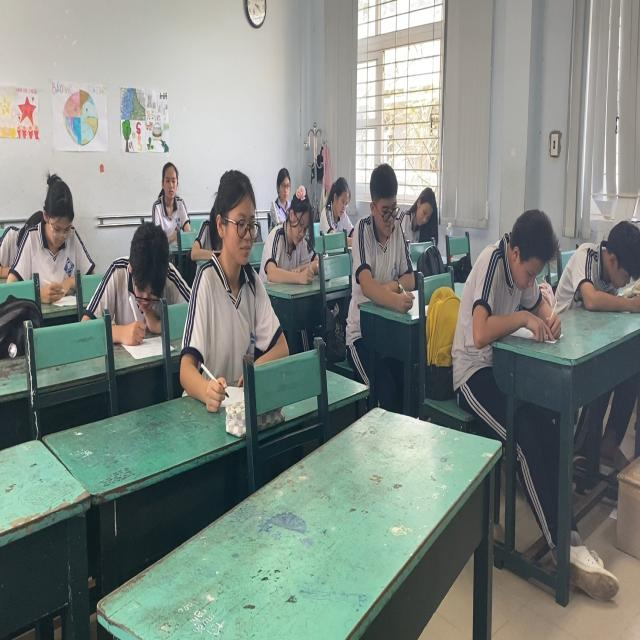not_cheating: (195, 162, 274, 362), (465, 208, 564, 348), (15, 173, 96, 300), (94, 224, 177, 342), (350, 159, 410, 300), (570, 217, 640, 314), (269, 194, 317, 286), (146, 159, 193, 238), (319, 172, 362, 238), (402, 183, 442, 241)
